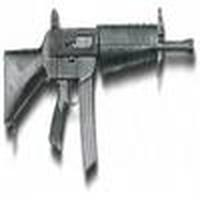gun: (2, 13, 196, 146)
